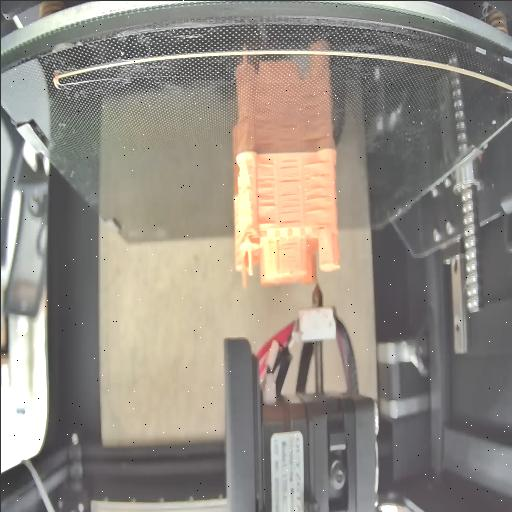cracks: (304, 160, 330, 212), (254, 160, 276, 208), (279, 191, 302, 230), (276, 151, 298, 185), (276, 238, 298, 250), (314, 222, 324, 234), (258, 218, 276, 224)
